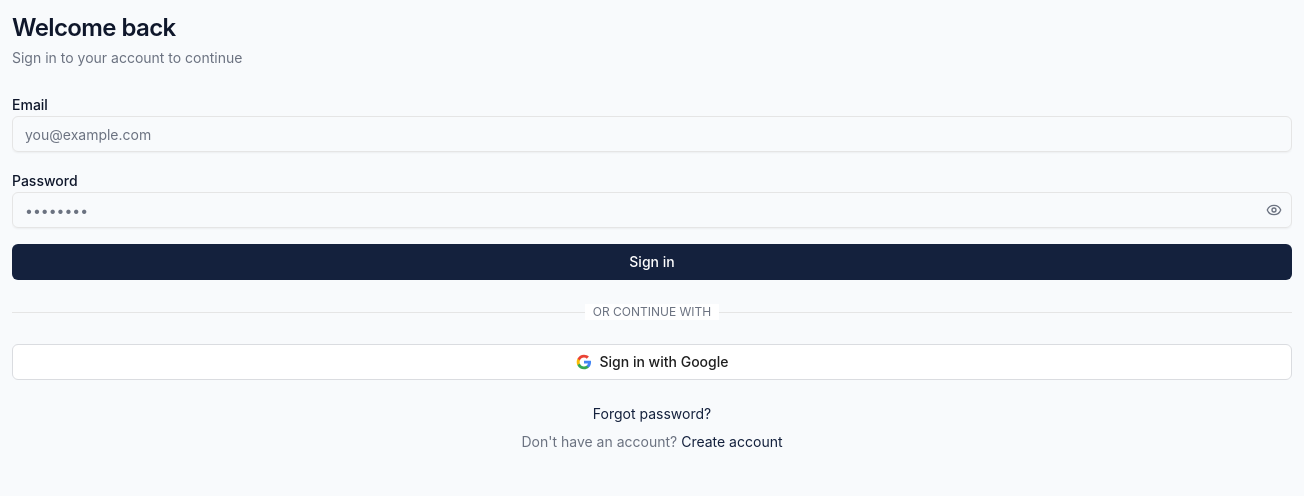
Scenario: LoginForm › shows root error message for non-401 server errors
Type "user@example.com" into the field labelled "Email" at [652, 134], box [12,116,1292,152]
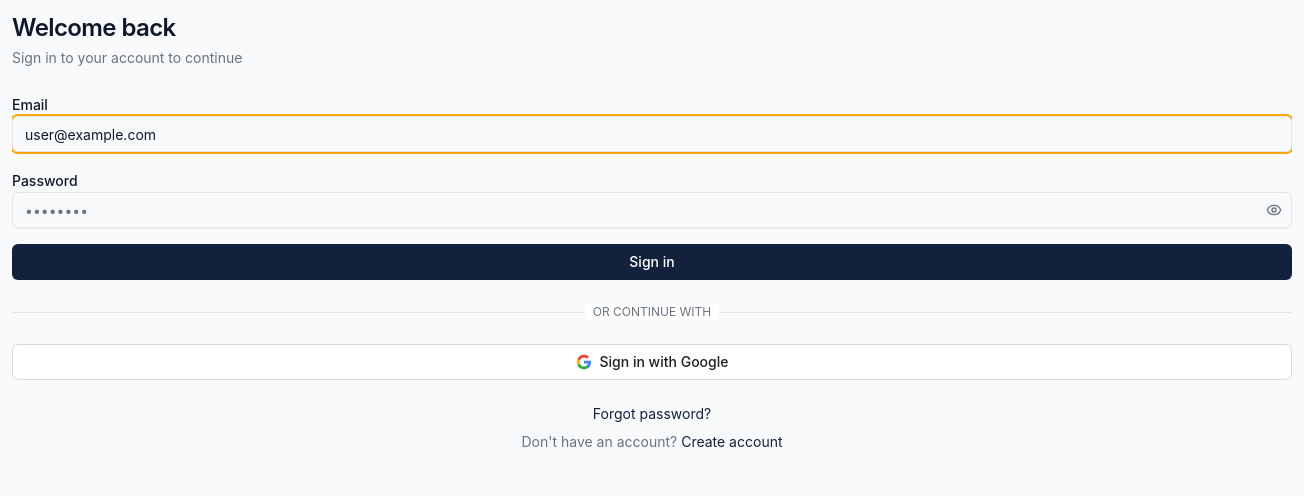
Type "Password1" into the password field labelled "Password" at [652, 210], box [12,192,1292,228]
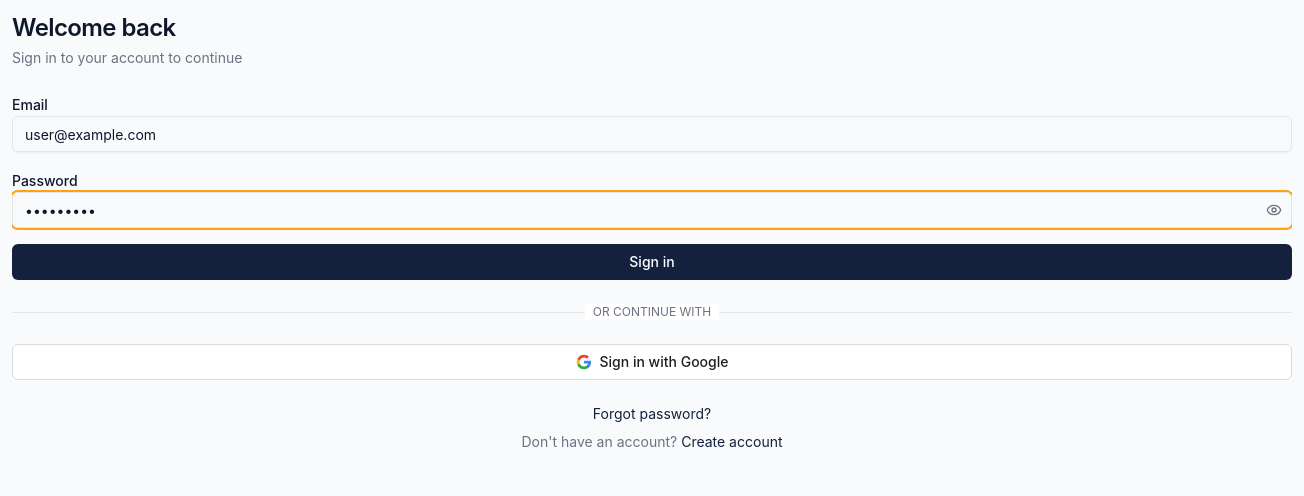
Click the button "Sign in" at [652, 262], box [12,244,1292,280]
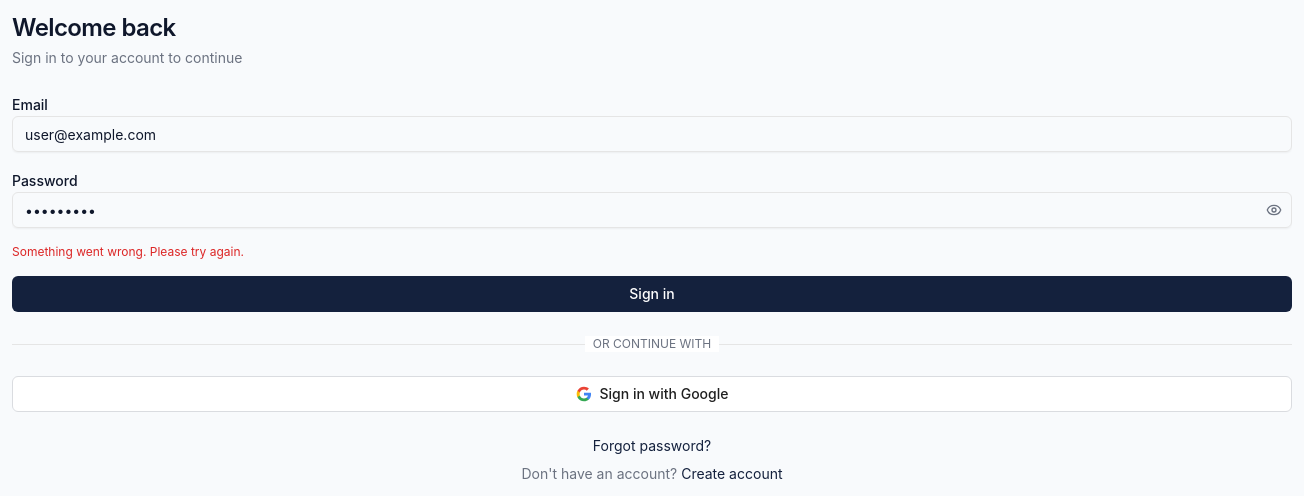
Check: the message "Something went wrong. Please try again." is shown, box [12,244,244,259]
